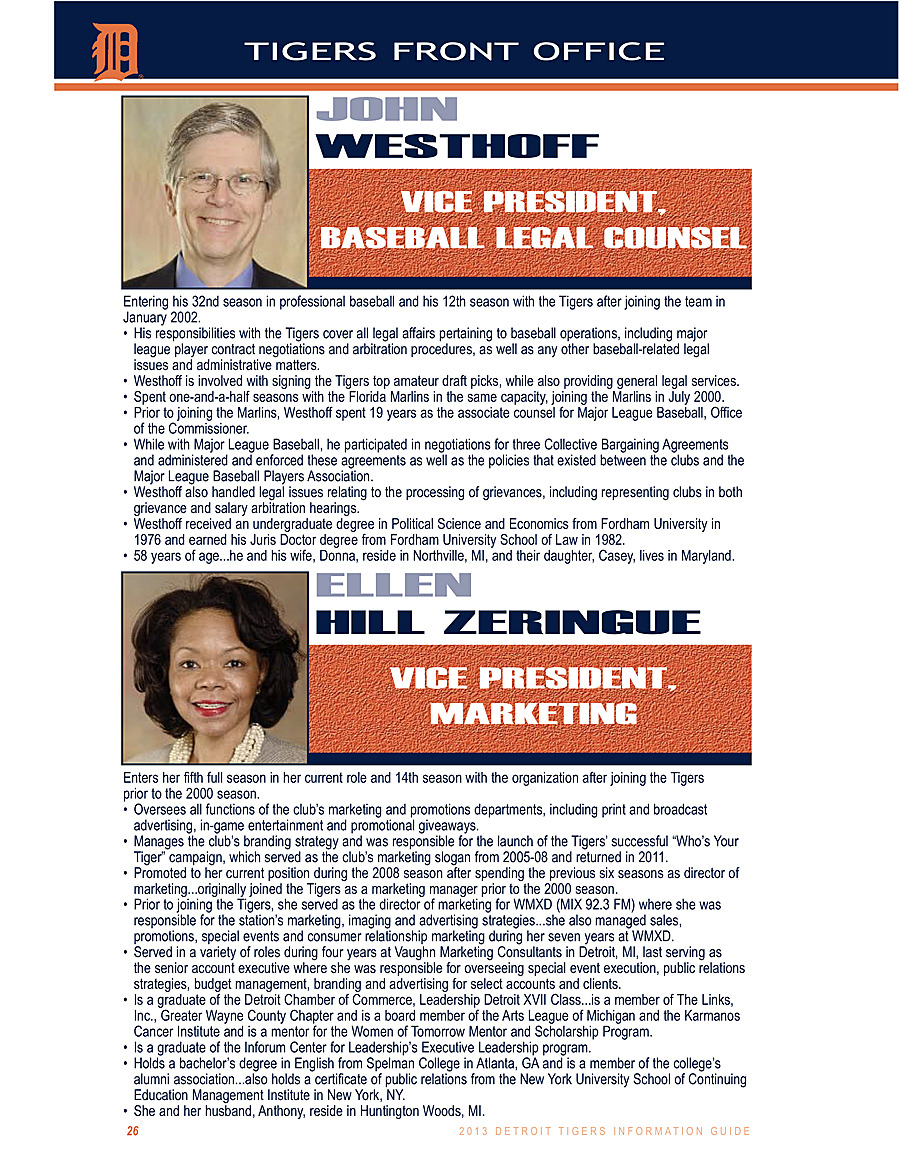caption: (304, 168, 753, 276), (317, 185, 746, 255), (380, 663, 693, 727)
figure: (119, 574, 310, 768), (119, 91, 300, 289)
list: (117, 812, 746, 1125), (108, 329, 746, 570)
section: (308, 557, 719, 631), (302, 89, 604, 157), (247, 32, 701, 60)
text: (108, 289, 731, 325), (115, 763, 727, 795)
